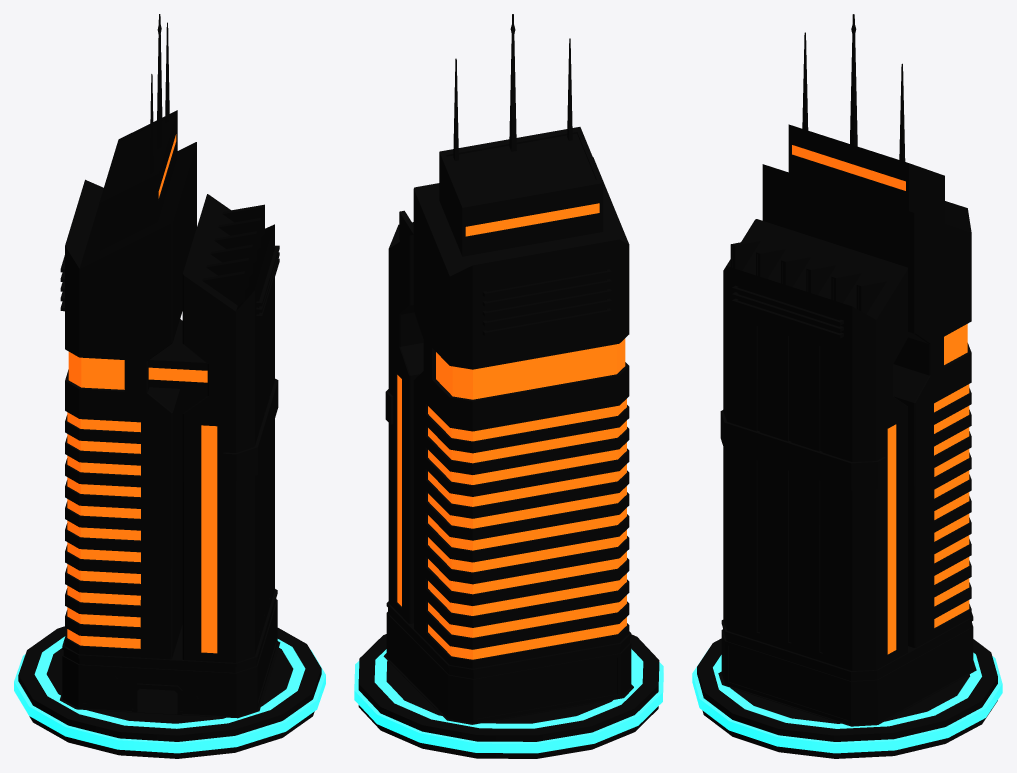
Rendered from House6.fbx.
3 renders of one model, left to right at view 1: azimuth 30°, elevation 25°; view 2: azimuth 150°, elevation 25°; view 3: azimuth 270°, elevation 25°, orthographic.
Visible parts, largest first — view 1: House6; view 2: House6; view 3: House6.
Part boxes in pixels (box(x1,y1,x2,y2)): House6: box(14, 14, 325, 758); House6: box(354, 14, 663, 758); House6: box(692, 14, 1002, 758).
Bounding box in the file's own units: 3090 × 7582 × 3090.
